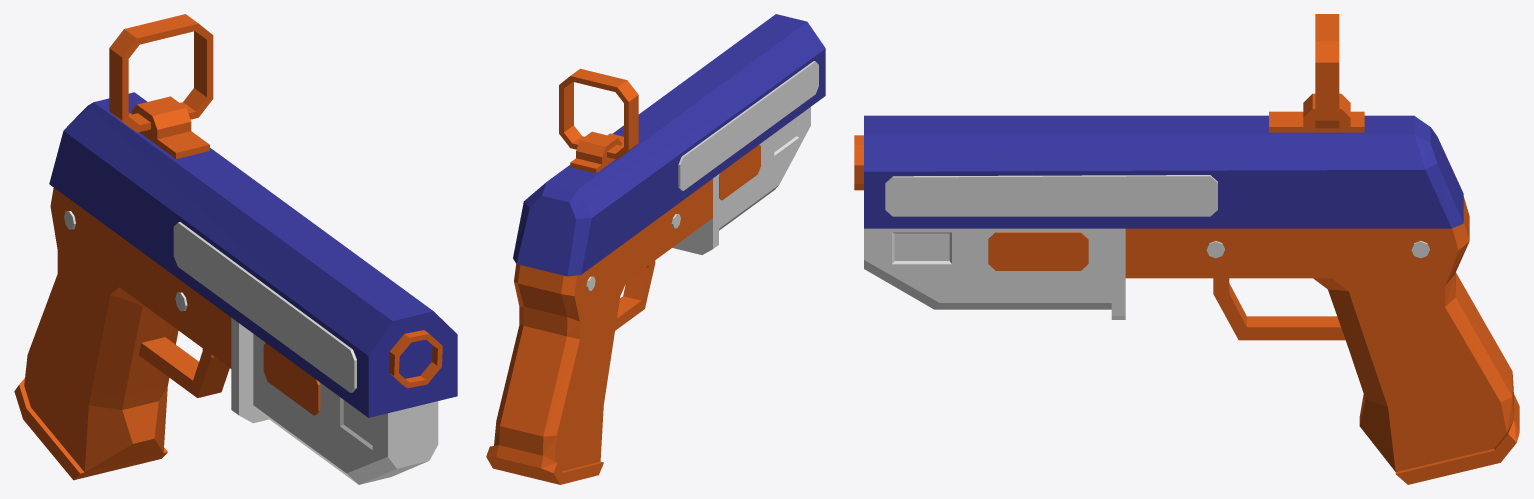
Rendered from pistola.glb.
The picture shows the model from 3 angles, left to right: view 1: azimuth 30°, elevation 25°; view 2: azimuth 150°, elevation 25°; view 3: azimuth 270°, elevation 25°; orthographic projection. The views are drawn at different scales.
Visible parts, largest first — view 1: pistol2_Material__26_0; view 2: pistol2_Material__26_0; view 3: pistol2_Material__26_0.
Boxes of the visible parts, x1,y1,x2,y2 form: pistol2_Material__26_0: [14, 14, 457, 484]; pistol2_Material__26_0: [486, 14, 825, 484]; pistol2_Material__26_0: [854, 14, 1519, 484].
Bounding box in the file's own units: 0.0497 × 0.2396 × 0.3304.
